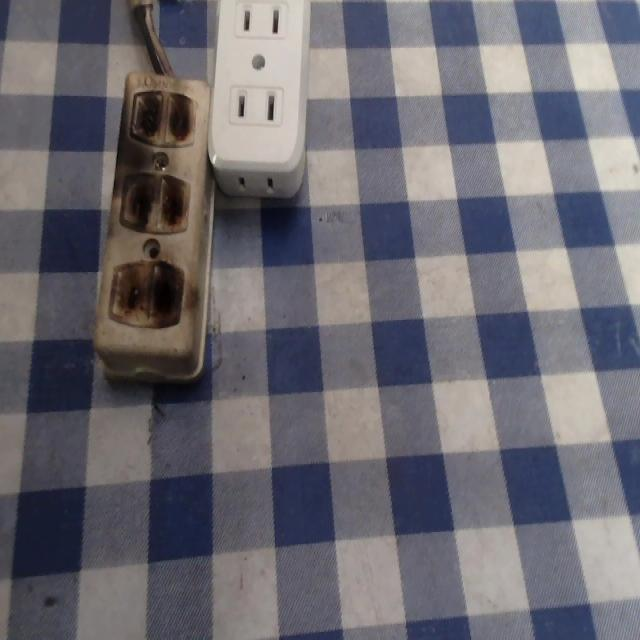-: (103, 252, 190, 340), (114, 171, 195, 240), (125, 85, 197, 155)
